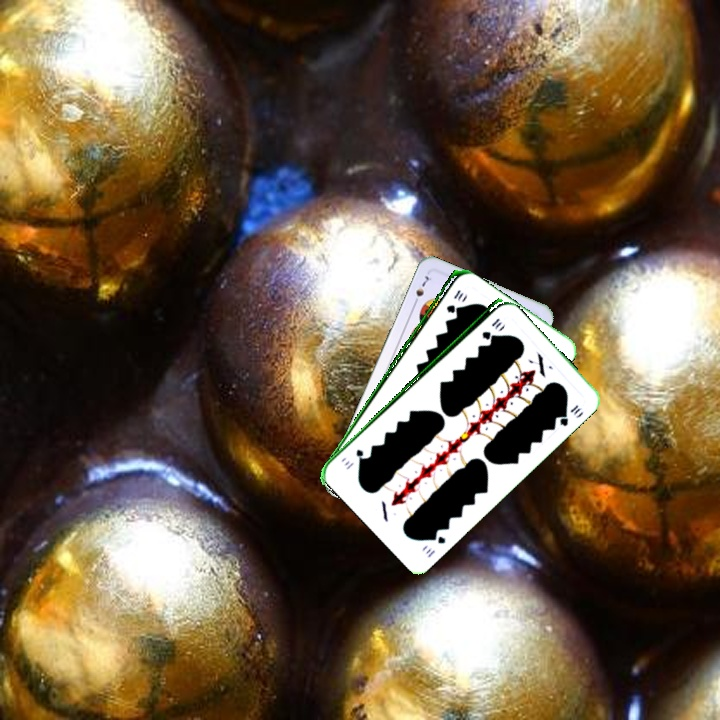G10: (422, 529, 448, 560), (478, 314, 504, 341), (442, 286, 466, 315)
S7: (409, 271, 434, 308)
